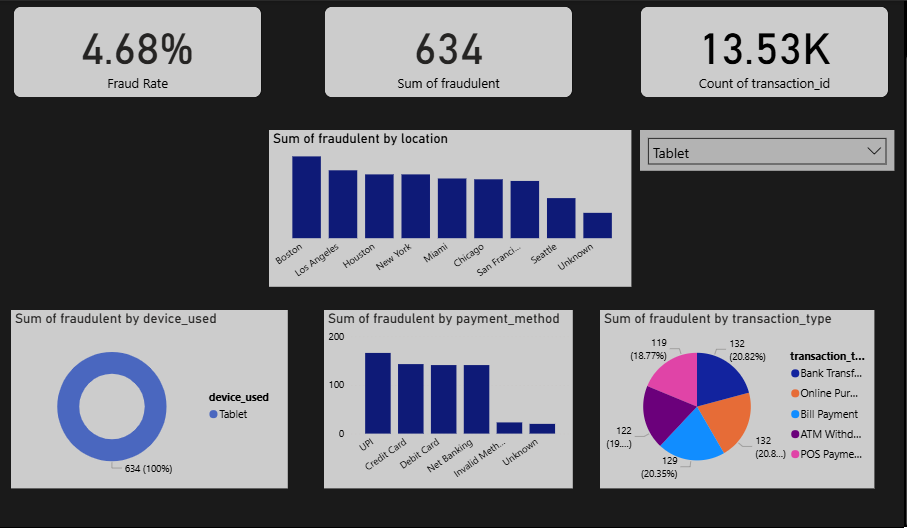

What the dashboard file says about the page in this screenshot:
{"tool":"powerbi","page":{"name":"Page 1","canvas":[1280,720],"ordinal":0},"visuals":[{"type":"card","fields":{"Values":["CountNonNull(fintech_db fintech_transactions.transaction_id)"]},"box":[805,68.8,311.2,115],"z":0},{"type":"card","fields":{"Values":["Sum(fintech_db fintech_transactions.fraudulent)"]},"box":[410,68.8,311.2,115],"z":1000},{"type":"clusteredColumnChart","fields":{"Category":["fintech_db fintech_transactions.location"],"Y":["Sum(fintech_db fintech_transactions.fraudulent)"]},"box":[341.2,223.8,452.5,196.2],"z":2000},{"type":"donutChart","fields":{"Y":["Sum(fintech_db fintech_transactions.fraudulent)"],"Category":["fintech_db fintech_transactions.device_used"]},"box":[18.8,448.8,346.2,222.5],"z":3000},{"type":"lineClusteredColumnComboChart","fields":{"Category":["fintech_db fintech_transactions.payment_method"],"Y":["Sum(fintech_db fintech_transactions.fraudulent)"]},"box":[410,448.8,311.2,222.5],"z":4000},{"type":"pieChart","fields":{"Category":["fintech_db fintech_transactions.transaction_type"],"Y":["Sum(fintech_db fintech_transactions.fraudulent)"]},"box":[755,448.8,342.5,222.5],"z":5000},{"type":"card","fields":{"Values":["fintech_db fintech_transactions.Fraud Rate"]},"box":[21.2,68.8,311.2,115],"z":6000},{"type":"textbox","box":[0,11.2,333,42.5],"z":7000},{"type":"slicer","fields":{"Values":["fintech_db fintech_transactions.device_used","fintech_db fintech_transactions.fraudulent"]},"box":[805,223.8,317.5,51.2],"z":7001}]}

Visuals, with their boxes on the page's 1280x720 design canvas (x1, y1, x2, y2). These are canvas units, not pixel positions in the 907x528 screenshot, which may show the page scaled, cropped or inside an application window:
card - CountNonNull(fintech_db fintech_transactions.transaction_id): BBox(805, 69, 1116, 184)
card - Sum(fintech_db fintech_transactions.fraudulent): BBox(410, 69, 721, 184)
clusteredColumnChart - fintech_db fintech_transactions.location x Sum(fintech_db fintech_transactions.fraudulent): BBox(341, 224, 794, 420)
donutChart - Sum(fintech_db fintech_transactions.fraudulent) x fintech_db fintech_transactions.device_used: BBox(19, 449, 365, 671)
lineClusteredColumnComboChart - fintech_db fintech_transactions.payment_method x Sum(fintech_db fintech_transactions.fraudulent): BBox(410, 449, 721, 671)
pieChart - fintech_db fintech_transactions.transaction_type x Sum(fintech_db fintech_transactions.fraudulent): BBox(755, 449, 1098, 671)
card - fintech_db fintech_transactions.Fraud Rate: BBox(21, 69, 332, 184)
textbox: BBox(0, 11, 333, 54)
slicer - fintech_db fintech_transactions.device_used x fintech_db fintech_transactions.fraudulent: BBox(805, 224, 1122, 275)
